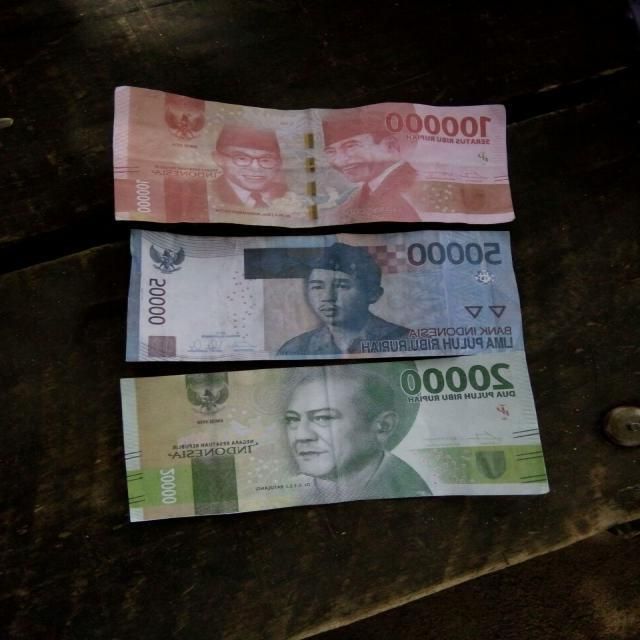dua puluh ribu rupiah: (122, 360, 530, 530)
lima puluh ribu rupiah: (128, 235, 506, 358)
seratus ribu rupiah: (109, 100, 518, 218)
